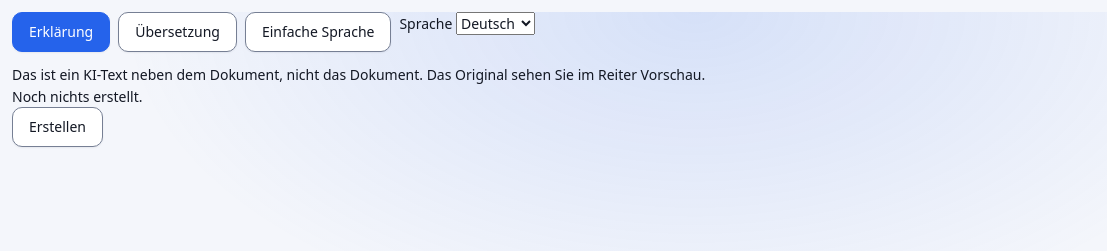
DocumentExplanation › marks a translation as machine translation and keeps it apart from the original
The width and height of the screenshot is (1107, 251).
Click the button "Übersetzung": (178, 32) [118, 12, 237, 52]
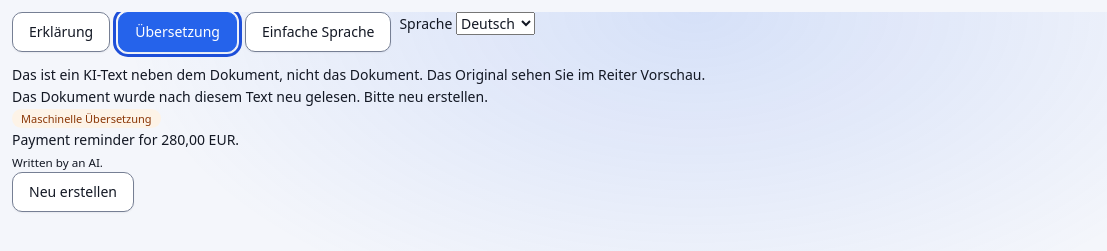
Expected: the text "Payment reminder for 280,00 EUR." is shown, [12, 130, 239, 149]
Expected: the text "Maschinelle Übersetzung" is shown, [21, 113, 152, 124]
Expected: the message shows "neu gelesen", [12, 87, 488, 106]
